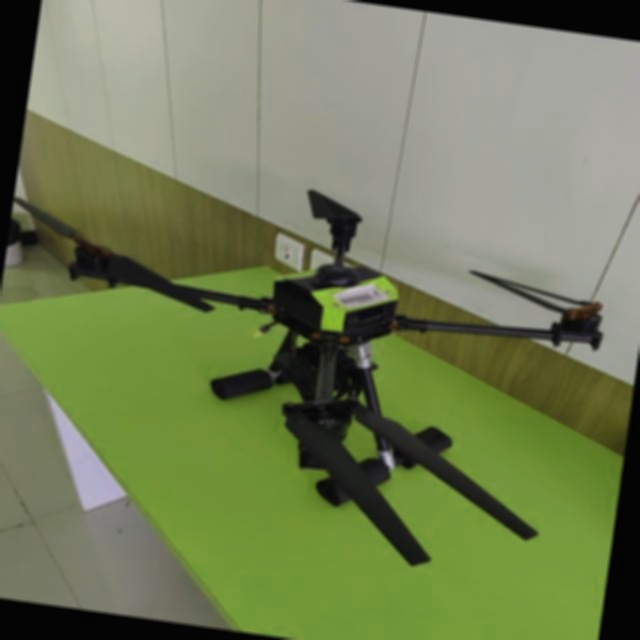quadcopter: (0, 142, 627, 592)
